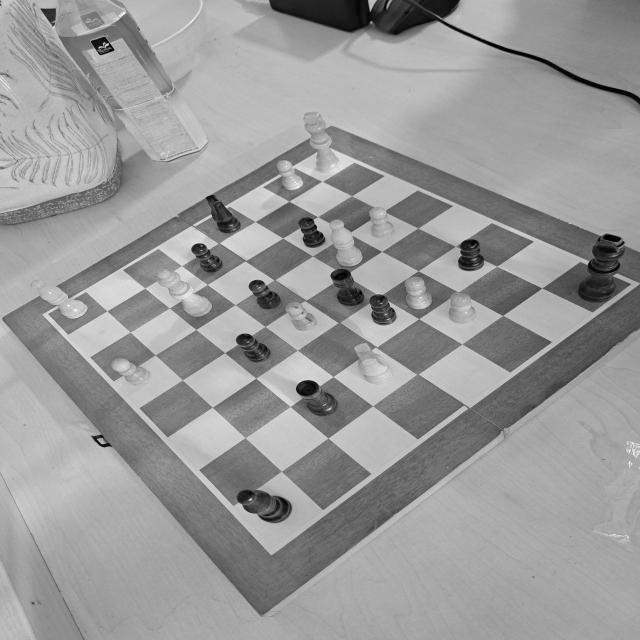chess-table-corners: (254, 536, 294, 562), (306, 140, 344, 160), (34, 306, 64, 324), (618, 276, 640, 292)
